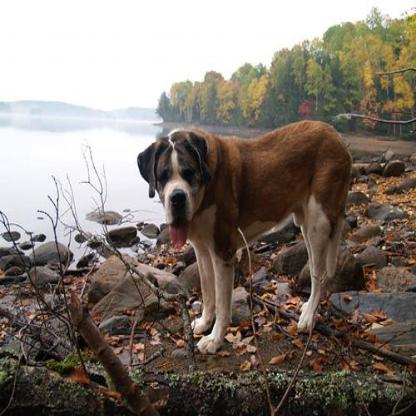Saint_Bernard: (135, 118, 355, 356)
